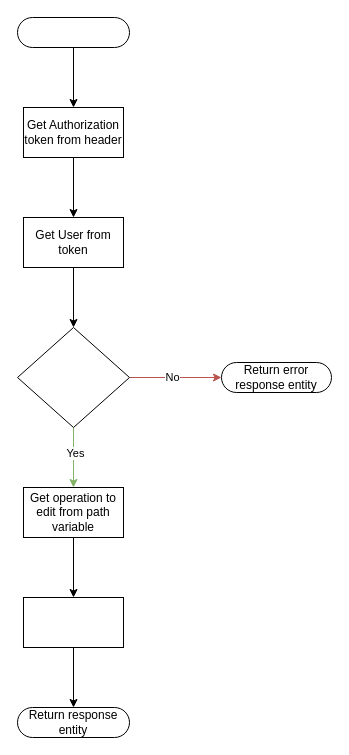
This 349x755 diagram has some shape labels left out. The centre of each missing label's shape, as x and y in pixels:
"Save updated operation" goes at point 73,622.
"User click edit operation button" goes at point 73,32.
"User is authorized to create new operation?" goes at point 73,377.
